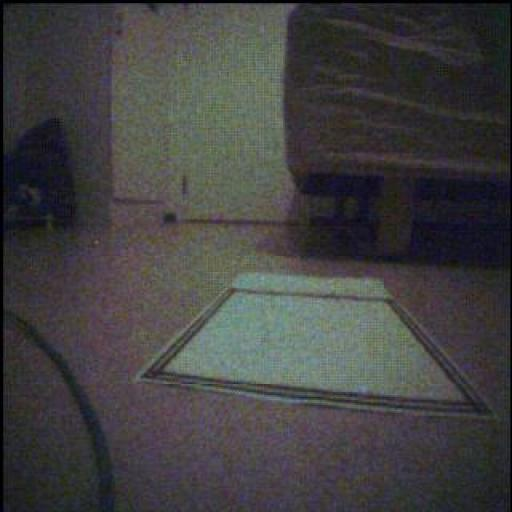pad: (137, 275, 492, 419)
